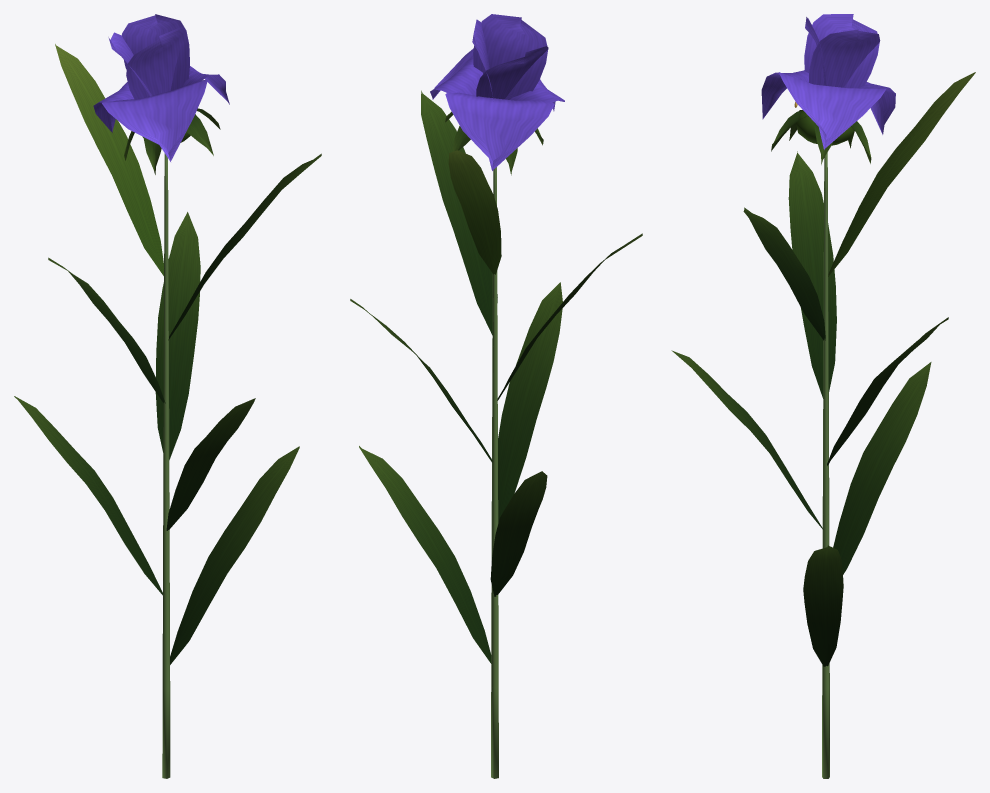
Rendered from iris-09-lod.glb.
3 views of the same model, side by side, from view 1: azimuth 30°, elevation 25°; view 2: azimuth 150°, elevation 25°; view 3: azimuth 270°, elevation 25° (orthographic).
Parts seen in each view (by area): view 1: iris_stage_09_leaf_veins.017, iris_stage_09_iris_petal.017, iris_stage_09_young_leaf.017, iris_stage_09_stem_fibres.017; view 2: iris_stage_09_leaf_veins.017, iris_stage_09_iris_petal.017, iris_stage_09_young_leaf.017, iris_stage_09_stem_fibres.017; view 3: iris_stage_09_leaf_veins.017, iris_stage_09_iris_petal.017, iris_stage_09_young_leaf.017, iris_stage_09_stem_fibres.017.
Boxes of the visible parts, x1=… form: iris_stage_09_leaf_veins.017: x1=14, y1=108, x2=321, y2=664; iris_stage_09_iris_petal.017: x1=93, y1=14, x2=229, y2=161; iris_stage_09_young_leaf.017: x1=55, y1=44, x2=195, y2=275; iris_stage_09_stem_fibres.017: x1=162, y1=153, x2=170, y2=778; iris_stage_09_leaf_veins.017: x1=350, y1=90, x2=642, y2=663; iris_stage_09_iris_petal.017: x1=430, y1=14, x2=564, y2=170; iris_stage_09_young_leaf.017: x1=448, y1=150, x2=501, y2=274; iris_stage_09_stem_fibres.017: x1=491, y1=167, x2=498, y2=778; iris_stage_09_leaf_veins.017: x1=671, y1=110, x2=948, y2=666; iris_stage_09_iris_petal.017: x1=761, y1=14, x2=895, y2=149; iris_stage_09_young_leaf.017: x1=795, y1=72, x2=975, y2=276; iris_stage_09_stem_fibres.017: x1=822, y1=152, x2=829, y2=778.
Size of the model in its own units: 0.2855 by 0.7692 by 0.2821.
5 materials, 3 textured.
